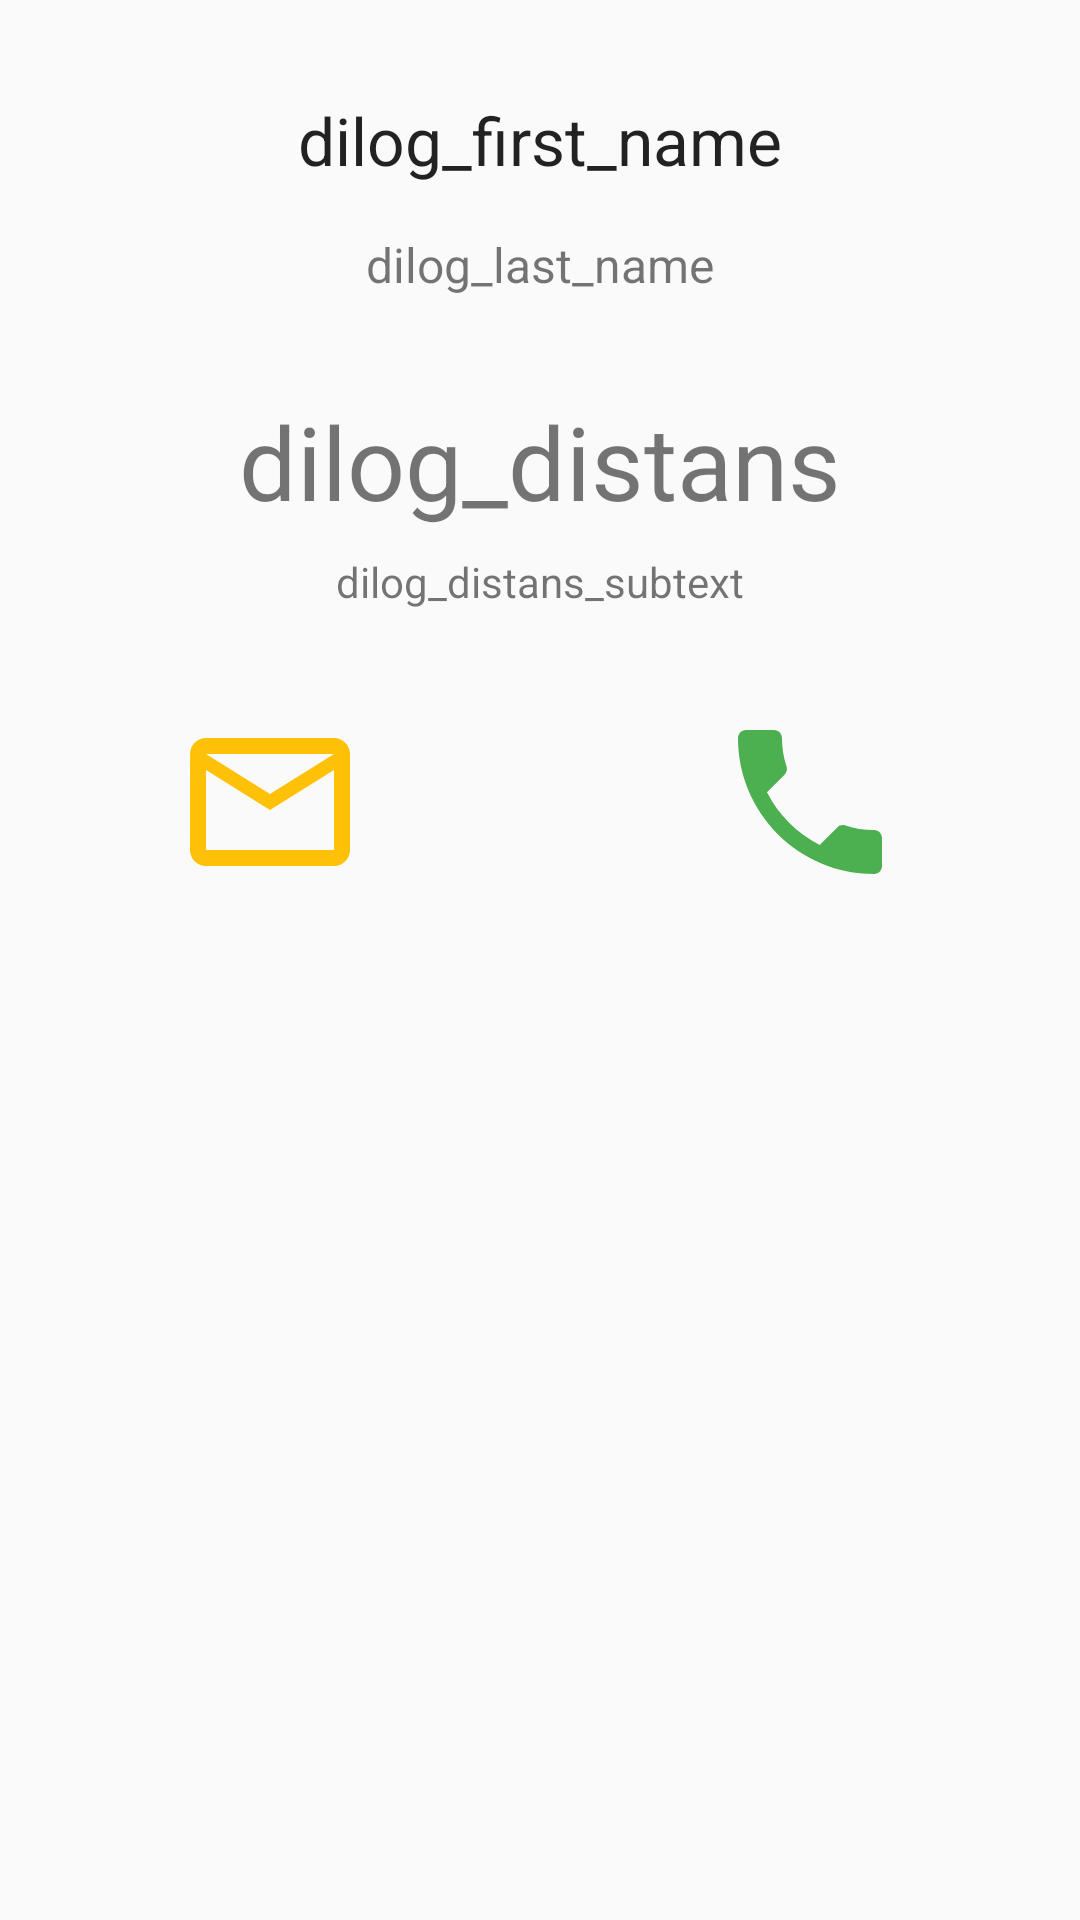

Screen size 1080w x 1920h. Icon name, then its center in pixels as point (x, y):
mail: point (270, 802)
phone: point (810, 802)
